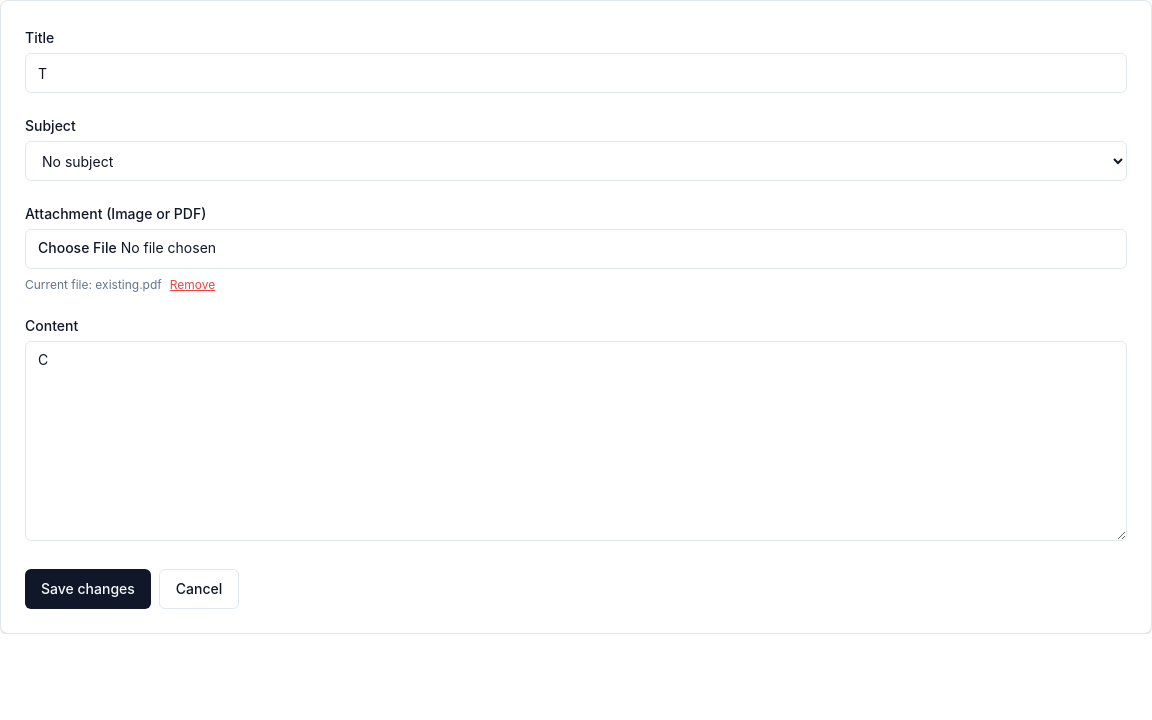
Test: NoteForm › shows remove option for existing attachment
This screenshot has width=1152, height=720.
Click the button "Remove" at (193, 285), box 170,277 -> 215,293
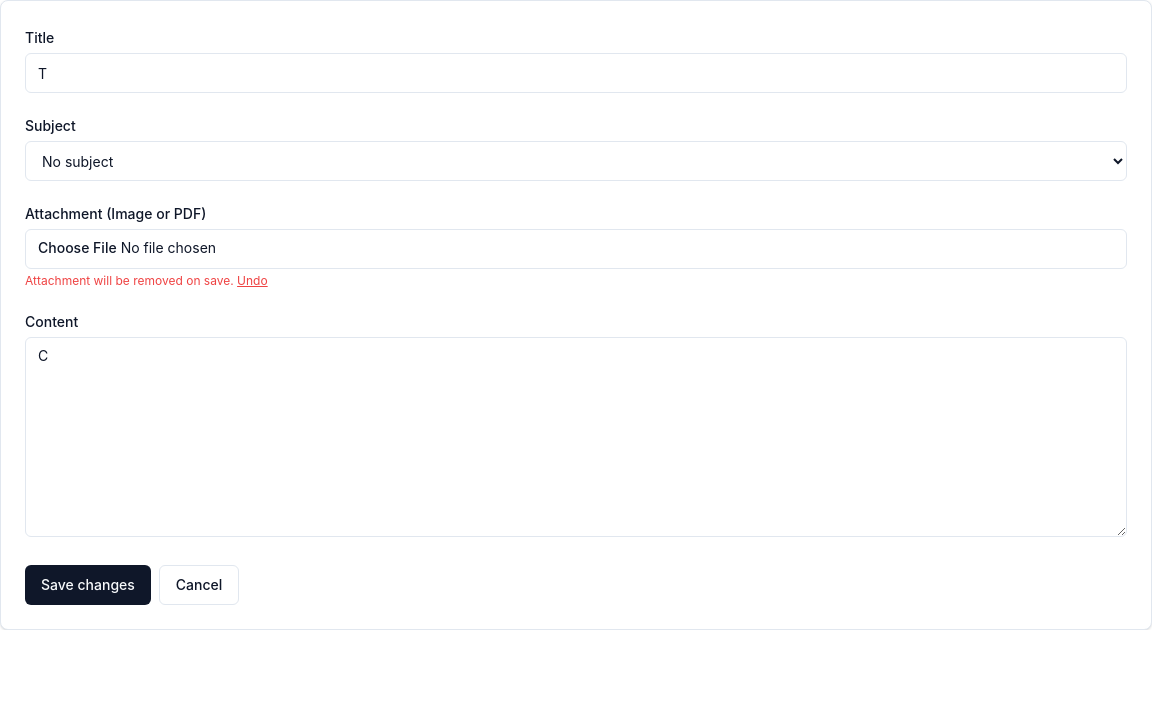
Now the text "Attachment will be removed on save. Undo" is shown, box 25,273 -> 268,289
